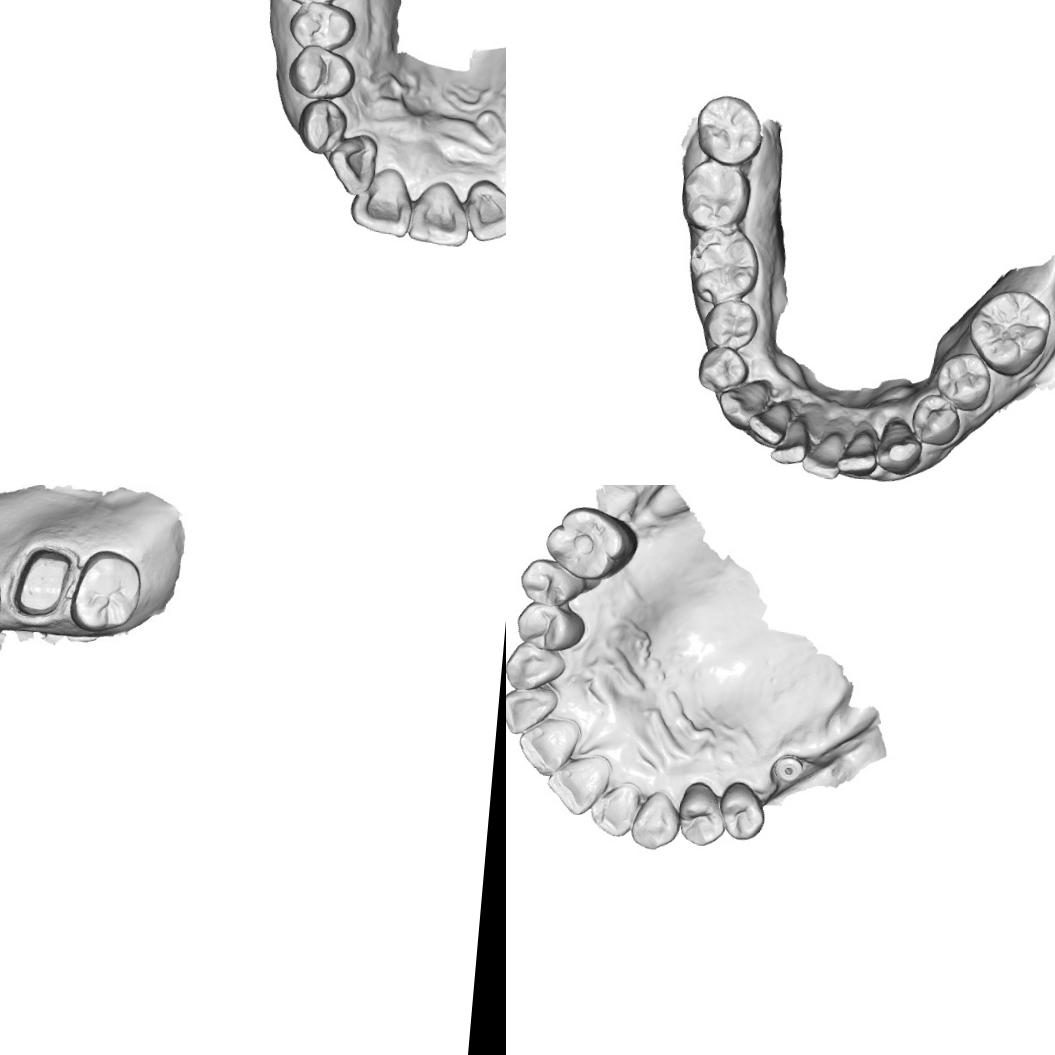canine: (714, 374, 774, 432), (294, 96, 350, 158), (628, 788, 682, 852), (506, 639, 567, 694), (872, 415, 925, 476)
crown: (7, 543, 75, 620)
implant: (772, 752, 804, 784)
incisor: (346, 163, 415, 239), (406, 177, 472, 250), (544, 750, 614, 818), (515, 713, 582, 778), (324, 130, 380, 199), (587, 778, 644, 839), (462, 176, 506, 243), (506, 683, 560, 737), (799, 429, 846, 480), (746, 395, 792, 446), (767, 414, 812, 466), (834, 430, 878, 480)
molar: (964, 285, 1052, 378), (542, 501, 640, 582), (66, 545, 146, 634), (684, 222, 762, 309), (676, 152, 754, 232), (693, 92, 766, 168)
premolar: (284, 40, 359, 104), (517, 555, 602, 610), (514, 599, 586, 653), (285, 0, 358, 53), (674, 778, 729, 848), (934, 349, 992, 413), (697, 296, 760, 352), (716, 778, 768, 842), (909, 392, 967, 447), (694, 343, 752, 395)
